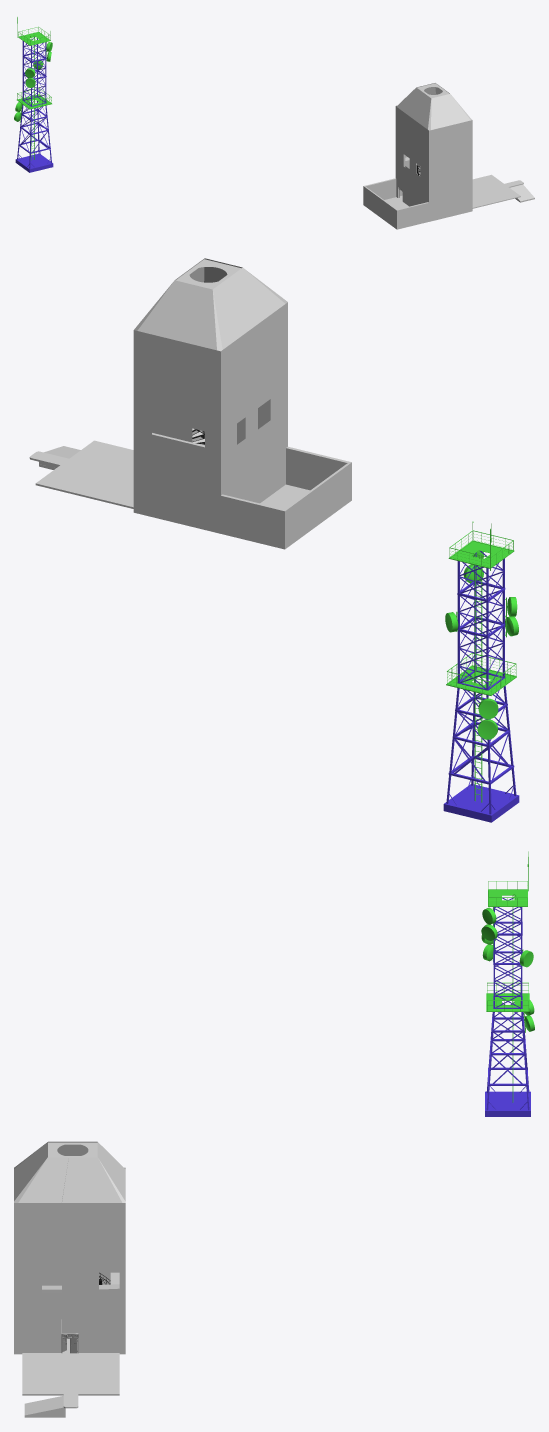
File: map_gray_box.fbx
The picture shows the model from 3 angles, top to bottom: view 1: azimuth 30°, elevation 25°; view 2: azimuth 150°, elevation 25°; view 3: azimuth 270°, elevation 25°; orthographic projection. The views are drawn at different scales.
Visible parts, largest first — view 1: Cube, Tower, Tower.001; view 2: Cube, Tower, Tower.001; view 3: Cube, Tower, Tower.001.
Part boxes in pixels (x1,y1,x2,y2): Cube: [363, 83, 534, 229]; Tower: [15, 37, 53, 172]; Tower.001: [14, 17, 52, 160]; Cube: [29, 258, 351, 549]; Tower: [443, 551, 519, 822]; Tower.001: [445, 521, 518, 802]; Cube: [14, 1141, 125, 1417]; Tower: [485, 898, 530, 1116]; Tower.001: [481, 851, 534, 1102].
Bounding box in the file's own units: 9986 × 4200 × 7340.
